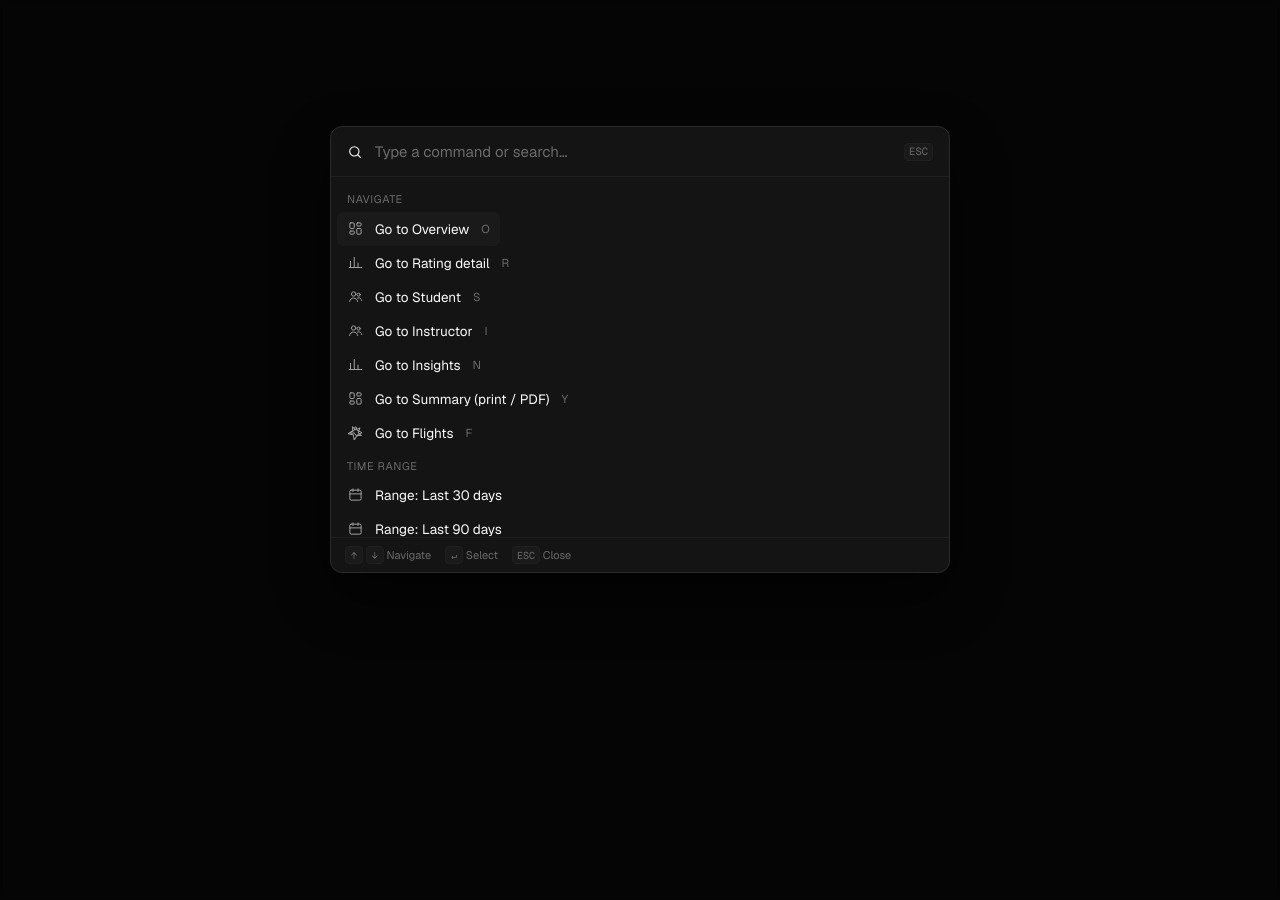
Test: filters by query
This screenshot has width=1280, height=900.
Type "rebuild" into the field with placeholder "Type a command or search…".
click(634, 152); type("rebuild")  # box [373,141,894,162]
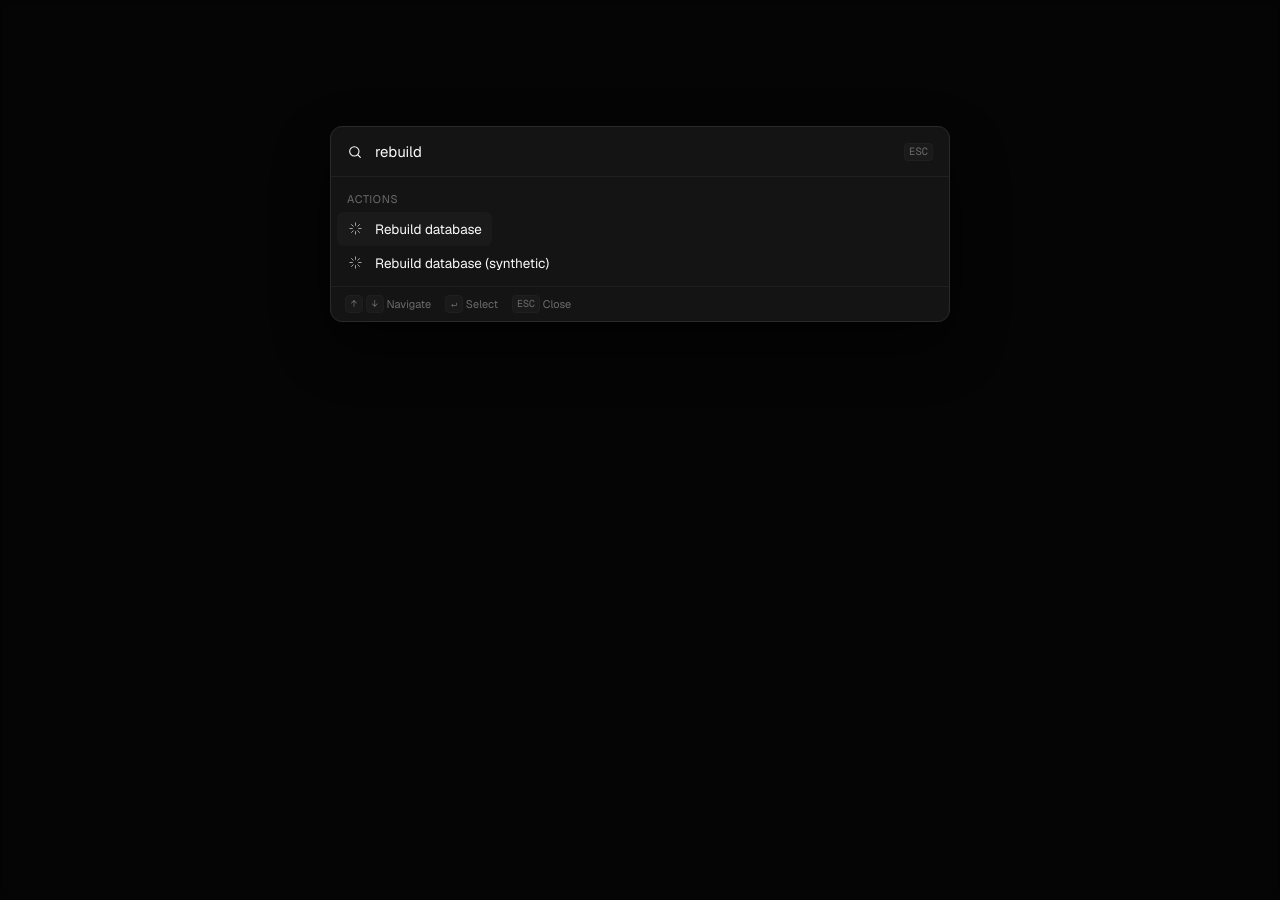
Expected: the button "Go to Overview" is gone
Expected: the text "Rebuild database" is shown, [375,220,482,238]
